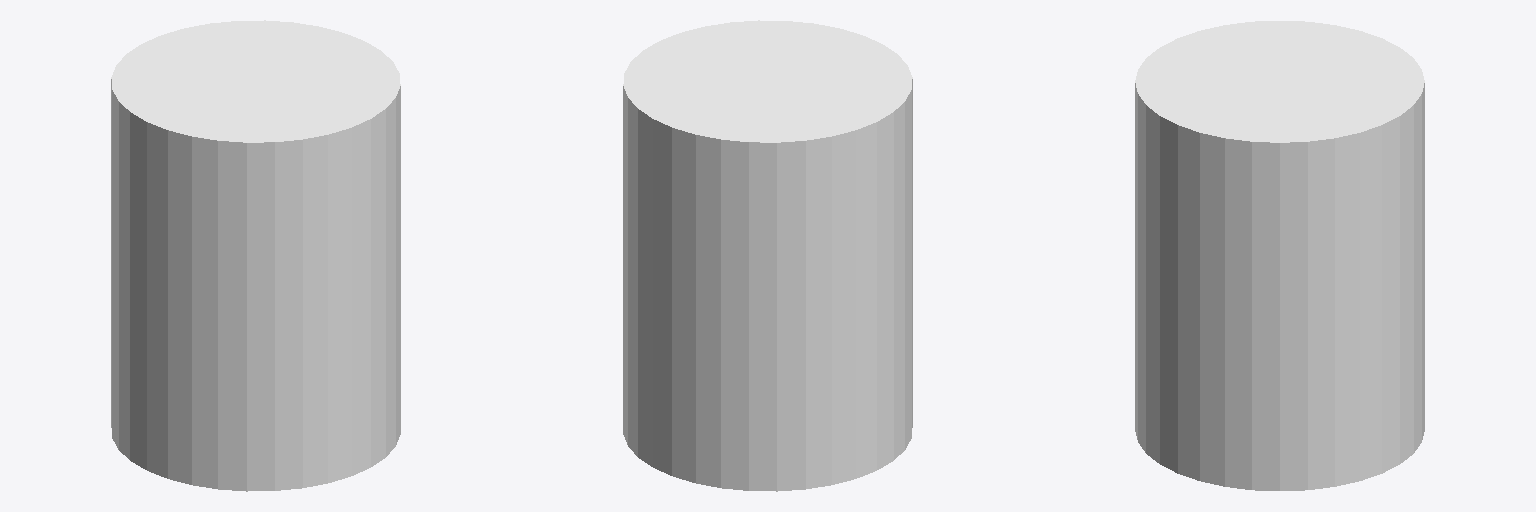
The robot description file, URDF, robot "pandabase.urdf":
<?xml version="1.0" ?>
<robot name="pandabase.urdf">
  <link name="base">
    <contact>
      <lateral_friction value="1.0"/>
      <rolling_friction value="0.0"/>
      <contact_cfm value="0.0"/>
      <contact_erp value="1.0"/>
    </contact>
    <inertial>
      <origin rpy="0 0 0" xyz="0.0 0.0 0.0"/>
       <mass value="1"/>
       <inertia ixx="1" ixy="0" ixz="0" iyy="1" iyz="0" izz="1"/>
    </inertial>
    <visual>
      <origin rpy="0 0 0" xyz="0 0 0"/>
      <geometry>
        <cylinder length="0.3" radius="0.113"/>
      </geometry>
       <material name="white">
        <color rgba="1 1 1 1"/>
      </material>
    </visual>
    <collision>
      <origin rpy="0 0 0" xyz="0 0 0"/>
      <geometry>
        <cylinder length="0.3" radius="0.113"/>
      </geometry>
    </collision>
  </link>
</robot>

--- What the picture shows (computed from the rendered views, not written in the file) ---
Views: 3 orthographic renders of the robot side by side, from view 1: azimuth 30°, elevation 25°; view 2: azimuth 150°, elevation 25°; view 3: azimuth 270°, elevation 25°.
Model pandabase.urdf with 1 links and 0 joints (none), rooted at base, posed all joints at 0.
Visible links, largest first — view 1: base; view 2: base; view 3: base.
Link boxes in pixels (box(x1,y1,x2,y2)): base: box(111, 20, 400, 491); base: box(623, 20, 912, 491); base: box(1135, 21, 1424, 490).
Size in the robot's own frame: 0.226 by 0.226 by 0.3 metres.
Geometry: primitives only (box / cylinder / sphere), no mesh files.